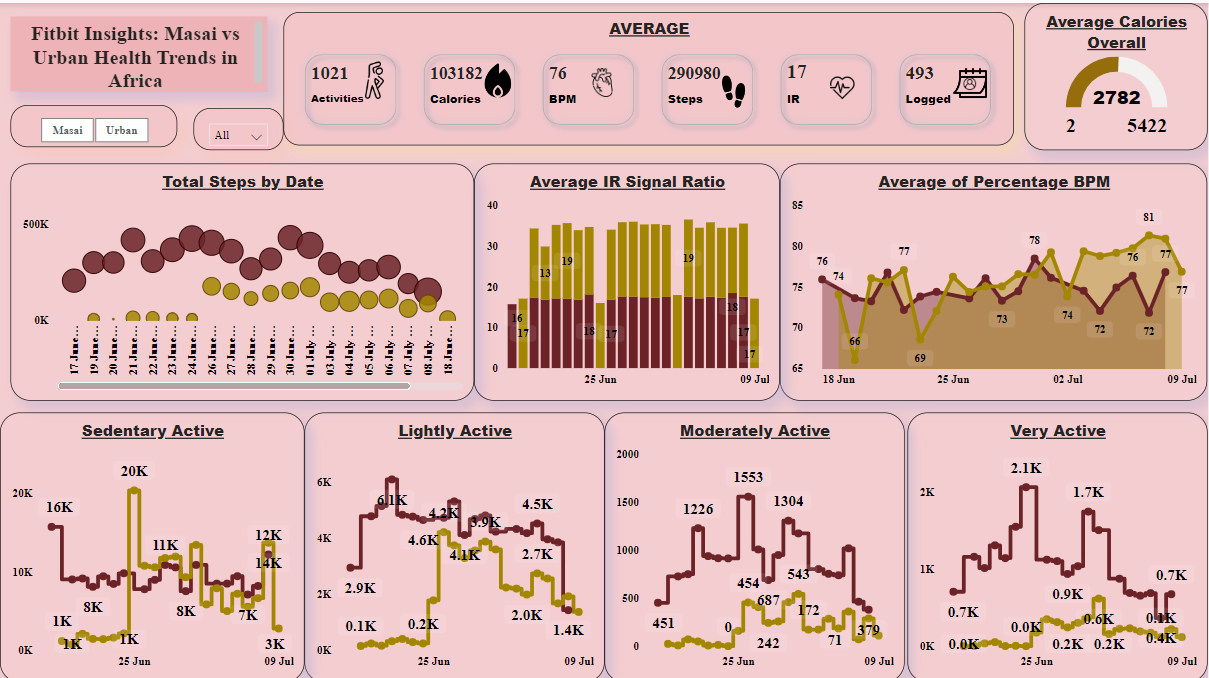

What the dashboard file says about the page in this screenshot:
{"tool":"powerbi","page":{"name":"Page 1","canvas":[1280,720],"ordinal":0},"visuals":[{"type":"slicer","fields":{"Values":["all in one.User"]},"box":[205,111.2,95.4,44.5],"z":0},{"type":"slicer","fields":{"Values":["all in one.Identity"]},"box":[11.1,108.1,176.4,44.5],"z":1000},{"type":"cardVisual","title":"AVERAGE","fields":{"Data":["Avg(all in one.Total Active Minutes)","Avg(all in one.Total Calories Per User)","Avg(all in one.BPM)","Avg(all in one.Total Steps by User)","Avg(all in one.Average of IR Signal Ratio)","CountNonNull(all in one.Column1)"]},"box":[300.4,9.5,774,141.4],"z":2000},{"type":"areaChart","title":"Average of Percentage BPM ","fields":{"Category":["all in one.Date"],"Y":["Avg(all in one.BPM)"],"Series":["all in one.Identity"]},"box":[826.5,170.1,453,251.1],"z":3000},{"type":"gauge","title":"Average Calories Overall","fields":{"MinValue":["Min(all in one.Minimum Calories Per User)"],"MaxValue":["Max(all in one.Maximum Calories Per User)"],"Y":["Avg(all in one.Sum of Calories)"]},"box":[1085.6,0,193.9,155.8],"z":4000},{"type":"scatterChart","title":"Total Steps by Date","fields":{"X":["all in one.Date"],"Y":["Sum(all in one.Sum of steps)"],"Size":["Avg(all in one.Average steps)"],"Series":["all in one.Identity"]},"box":[11.1,170.1,491.1,251.1],"z":5000},{"type":"columnChart","title":"Average IR Signal Ratio ","fields":{"Category":["all in one.Date"],"Y":["Avg(all in one.Average of IR Signal Ratio)"],"Series":["all in one.Identity"]},"box":[502.2,170.1,324.2,251.1],"z":6000},{"type":"textbox","box":[11.1,14.3,271.8,79.5],"z":7000},{"type":"image","box":[502.2,58.8,50.9,46.1],"z":8000},{"type":"image","box":[368.7,52.5,55.6,58.8],"z":9000},{"type":"image","box":[611.9,63.6,52.5,41.3],"z":10000},{"type":"image","box":[755,68.3,44.5,50.9],"z":11000},{"type":"image","box":[874.2,68.3,36.5,42.9],"z":12000},{"type":"image","box":[1004.5,58.8,46.1,52.5],"z":13000},{"type":"image","box":[1015.6,63.6,23.8,44.5],"z":14000},{"type":"lineChart","title":"Lightly Active","fields":{"Category":["all in one.Date"],"Y":["Sum(all in one.lightly_active_minutes)"],"Series":["all in one.Identity"]},"box":[322.6,433.9,317.9,286.1],"z":15000},{"type":"lineChart","title":"Moderately Active","fields":{"Category":["all in one.Date"],"Y":["Sum(all in one.moderately_active_minutes)"],"Series":["all in one.Identity"]},"box":[640.5,433.9,317.9,286.1],"z":16000},{"type":"lineChart","title":"Sedentary Active","fields":{"Category":["all in one.Date"],"Y":["Sum(all in one.sedentary_minutes)"],"Series":["all in one.Identity"]},"box":[0,433.9,322.6,286.1],"z":17000},{"type":"lineChart","title":"Very Active","fields":{"Category":["all in one.Date"],"Y":["Sum(all in one.very_active_minutes)"],"Series":["all in one.Identity"]},"box":[961.6,433.9,317.9,286.1],"z":18000}]}

Visuals, with their boxes in screenshot pixels (x1, y1, x2, y2), scaled from the page's 1280x720 canvas onto the 1209x678 screenshot:
slicer - all in one.User: x1=194 y1=105 x2=284 y2=147
slicer - all in one.Identity: x1=10 y1=102 x2=177 y2=144
"AVERAGE" cardVisual: x1=284 y1=9 x2=1015 y2=142
"Average of Percentage BPM " areaChart: x1=781 y1=160 x2=1208 y2=397
"Average Calories Overall" gauge: x1=1025 y1=0 x2=1208 y2=147
"Total Steps by Date" scatterChart: x1=10 y1=160 x2=474 y2=397
"Average IR Signal Ratio " columnChart: x1=474 y1=160 x2=781 y2=397
textbox: x1=10 y1=13 x2=267 y2=88
image: x1=474 y1=55 x2=522 y2=99
image: x1=348 y1=49 x2=401 y2=105
image: x1=578 y1=60 x2=628 y2=99
image: x1=713 y1=64 x2=755 y2=112
image: x1=826 y1=64 x2=860 y2=105
image: x1=949 y1=55 x2=992 y2=105
image: x1=959 y1=60 x2=982 y2=102
"Lightly Active" lineChart: x1=305 y1=409 x2=605 y2=677
"Moderately Active" lineChart: x1=605 y1=409 x2=905 y2=677
"Sedentary Active" lineChart: x1=0 y1=409 x2=305 y2=677
"Very Active" lineChart: x1=908 y1=409 x2=1208 y2=677
